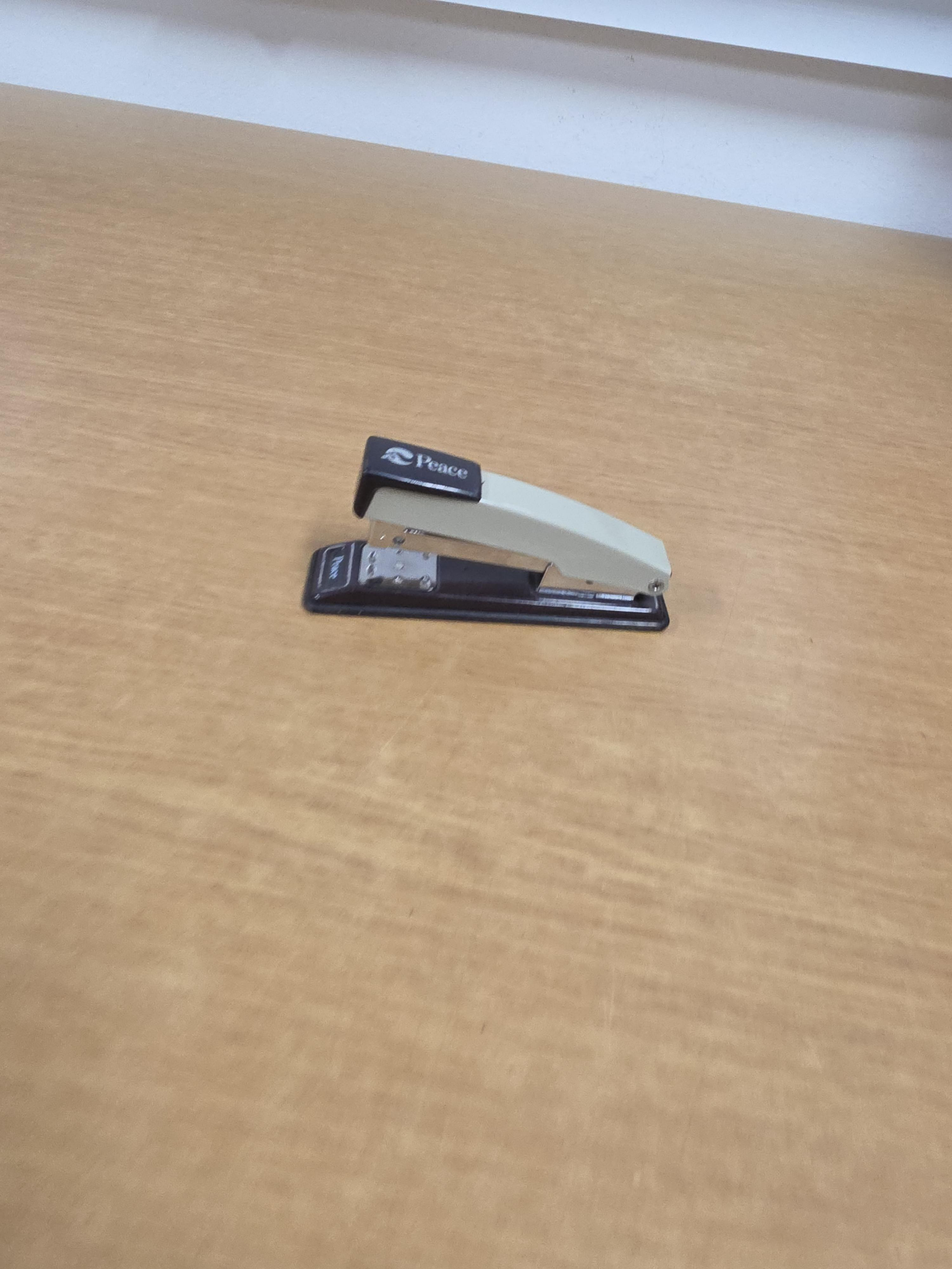stapler: (303, 434, 672, 633)
